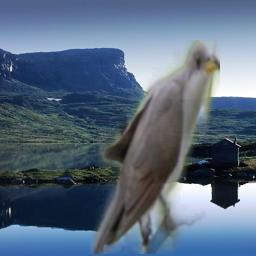Cuckoo: (90, 40, 220, 254)
